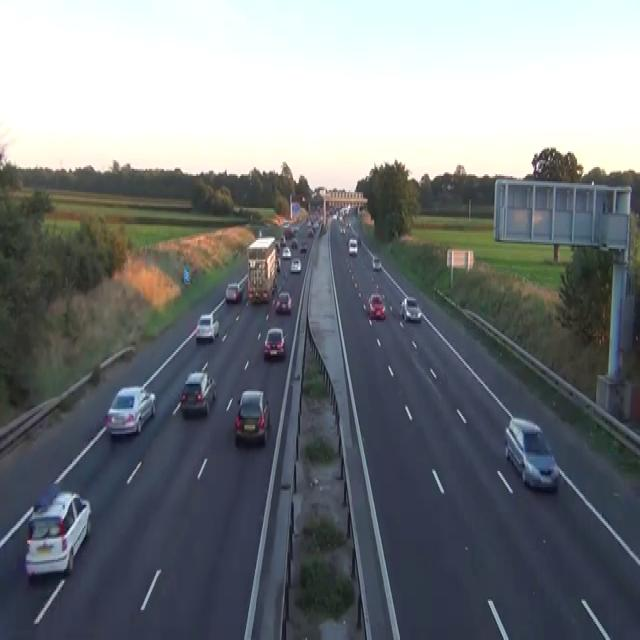Car: (24, 487, 91, 580), (504, 416, 559, 491), (105, 384, 156, 437), (234, 388, 270, 444), (179, 370, 216, 416), (263, 327, 286, 357), (195, 313, 219, 341), (400, 295, 421, 322), (368, 292, 386, 320), (275, 290, 292, 313), (225, 283, 242, 302), (348, 236, 358, 256), (290, 256, 301, 272), (182, 266, 190, 284), (281, 245, 291, 258), (372, 256, 381, 270), (283, 224, 293, 236), (279, 233, 286, 245), (299, 242, 307, 252), (291, 238, 298, 249), (276, 256, 280, 272), (446, 182, 454, 190), (282, 220, 290, 228), (233, 204, 240, 213), (275, 240, 280, 252), (307, 228, 314, 236), (339, 226, 345, 234), (321, 224, 326, 233), (441, 183, 446, 190), (347, 220, 351, 228), (333, 212, 337, 218)
Truck: (246, 235, 276, 302)
